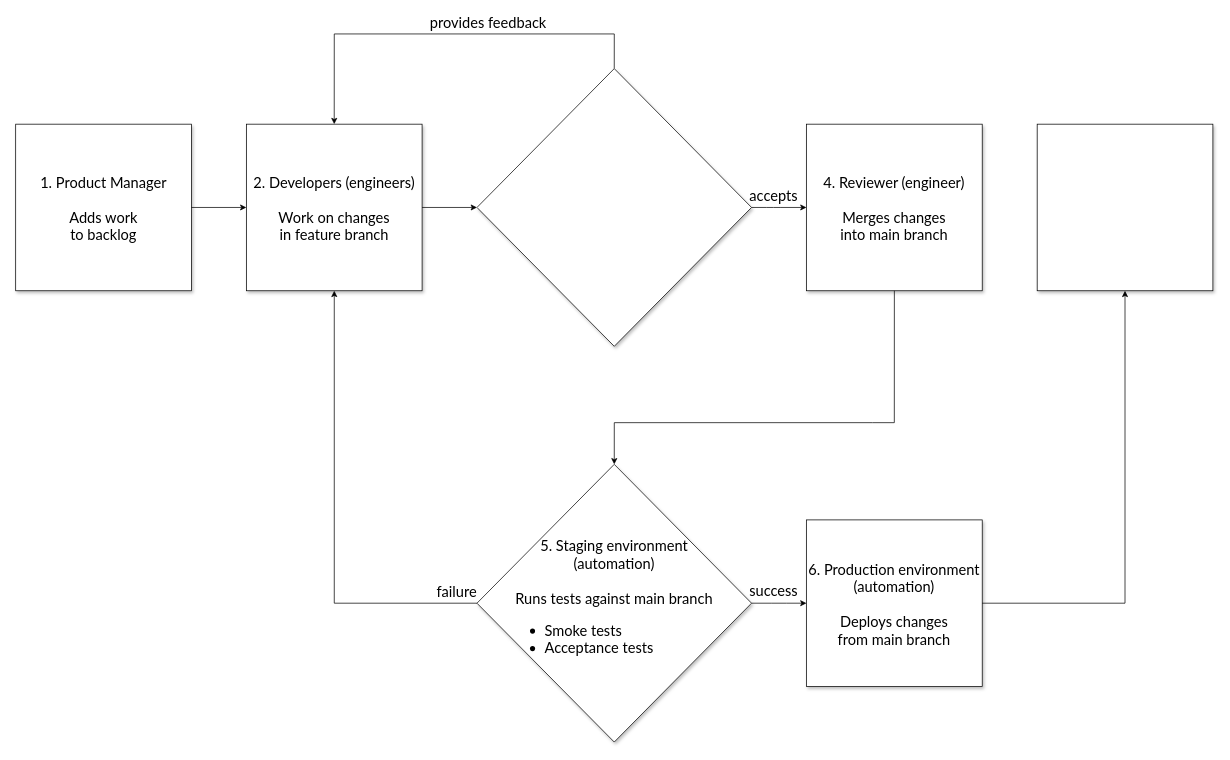
Some shapes in this 1230 by 760 pixel diagram are drawn without their labels. Each missing label, with the centre of its shape:
3. Reviewer (engineer) Reviews pull request: Safe for production? Code quality?: (x=614, y=208)
7. Team Signs off work as complete: (x=1125, y=208)
